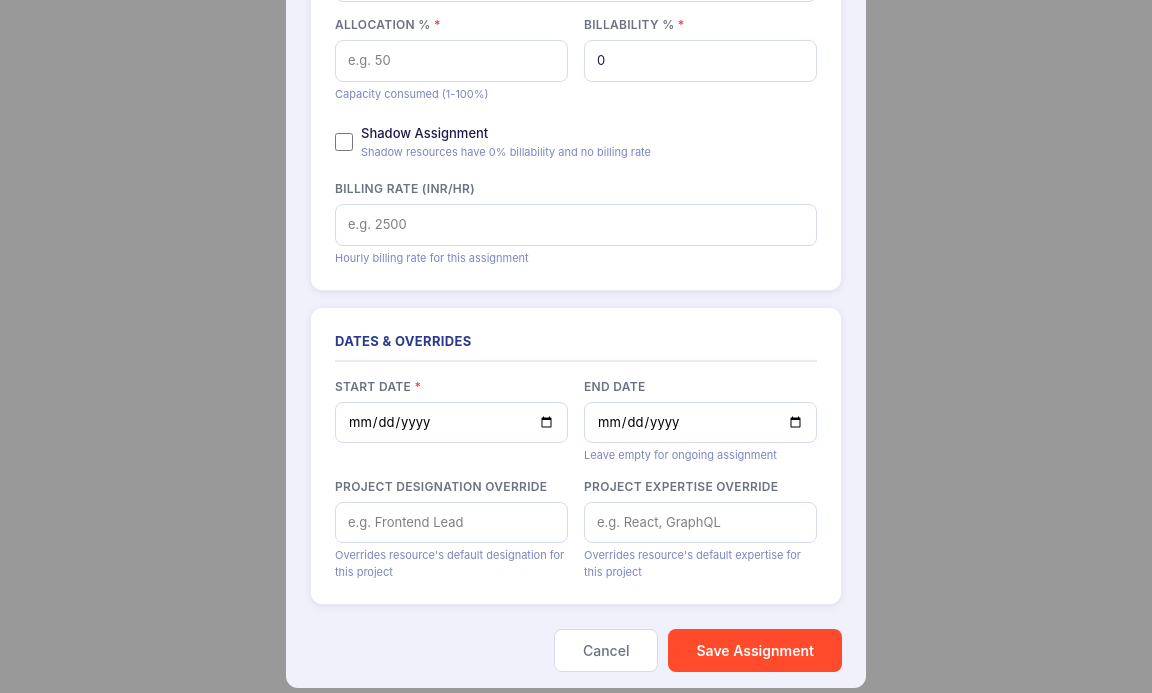
Test: AssignmentFormModal › shows validation errors on empty submit
(page scrolled)
Click the button "Save Assignment" at (755, 651), box x1=668 y1=629 x2=842 y2=672
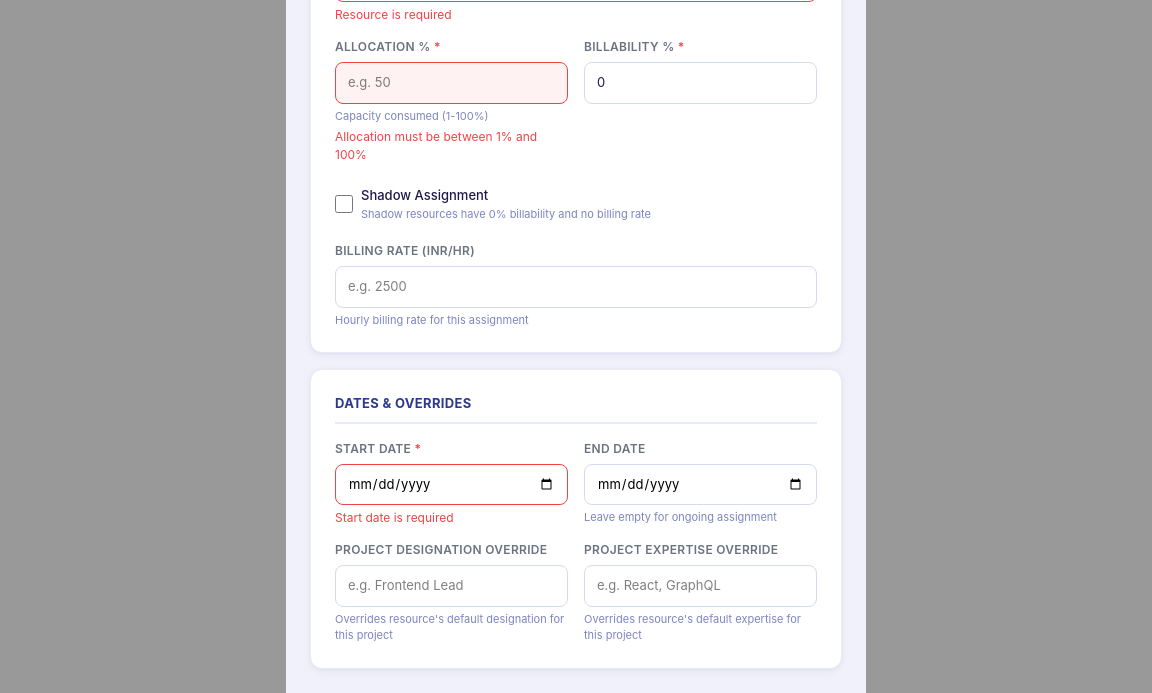
Check: the text "Resource is required" is shown, box x1=335 y1=7 x2=452 y2=22
Check: the text "Start date is required" is shown, box x1=335 y1=510 x2=454 y2=525
